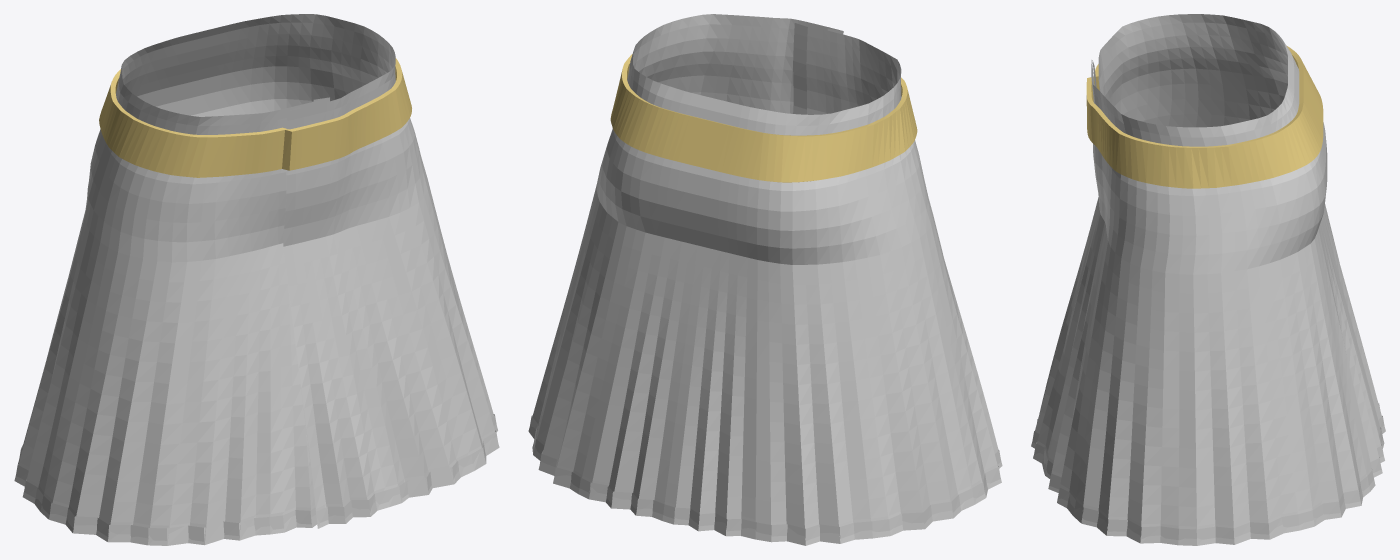
The model's file is ewb_kilt.glb.
3 views of the same model, side by side, from view 1: azimuth 30°, elevation 25°; view 2: azimuth 150°, elevation 25°; view 3: azimuth 270°, elevation 25° (orthographic). The views are drawn at different scales.
Visible parts, largest first — view 1: ewb_kilt; view 2: ewb_kilt; view 3: ewb_kilt.
Part boxes in pixels (bbox=[...]): ewb_kilt: bbox=[14, 14, 499, 545]; ewb_kilt: bbox=[528, 14, 1002, 545]; ewb_kilt: bbox=[1031, 14, 1385, 545].
Size of the model in its own units: 0.5931 by 0.5182 by 0.4435.
